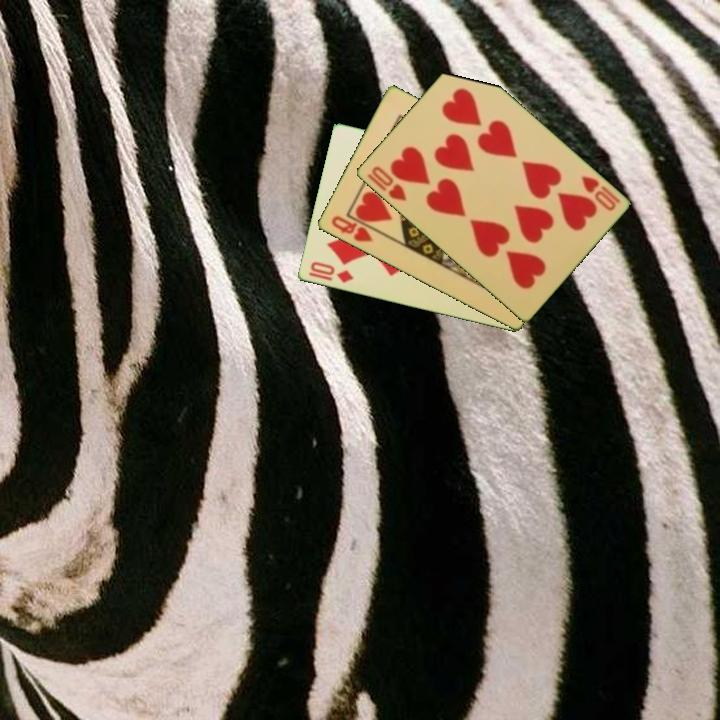10d: (307, 258, 356, 286)
10h: (577, 172, 623, 214), (363, 163, 409, 204)
Qh: (327, 212, 376, 245)
